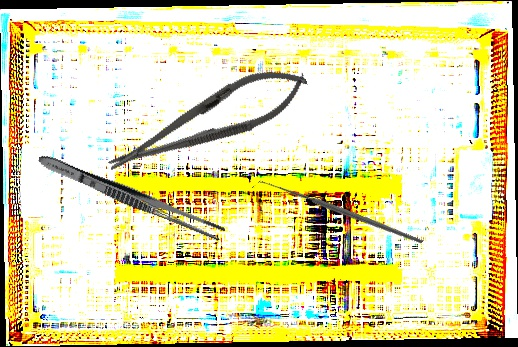Dressing Forceps: (34, 149, 228, 244)
Hook Surgical: (251, 124, 425, 304)
Needle Holder: (98, 52, 316, 190)
